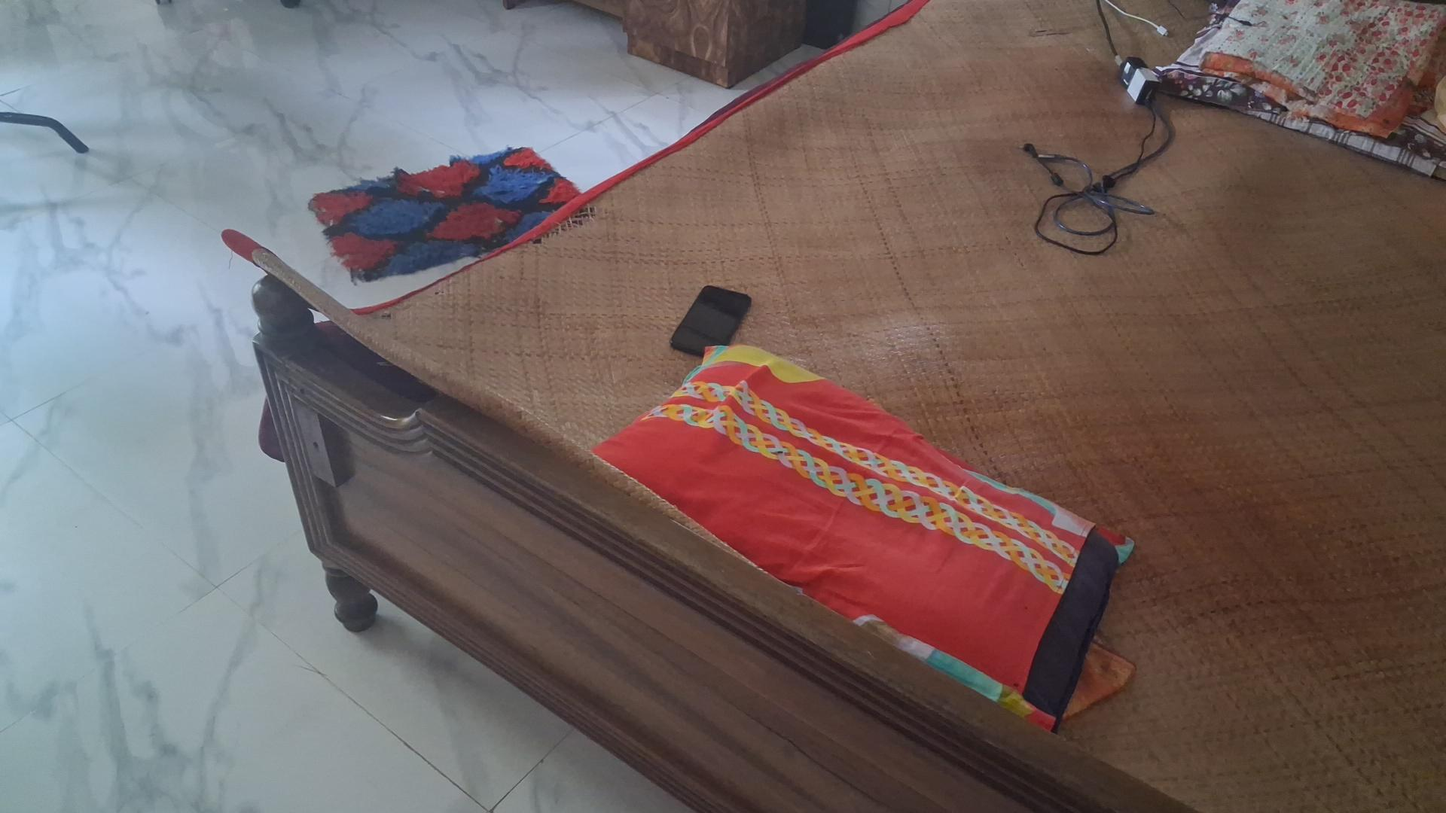Blanket: (1200, 0, 1444, 121)
Floor Mat: (310, 147, 588, 286)
Phone: (667, 276, 752, 359)
Pillow: (593, 350, 1124, 733)
